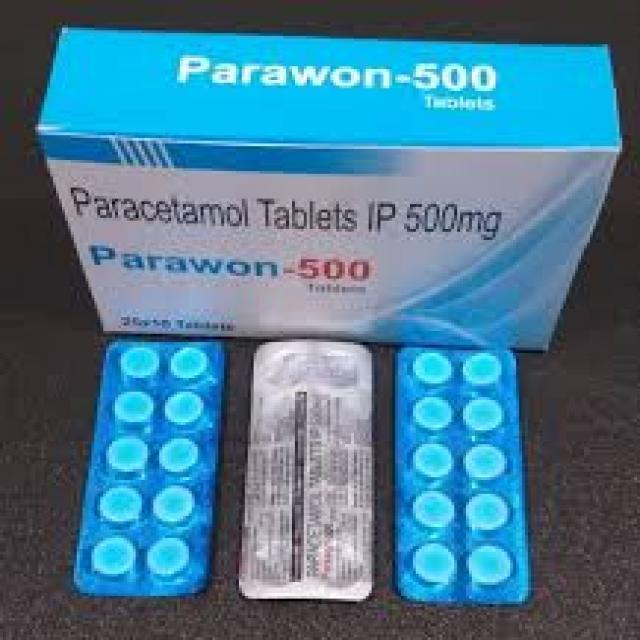authentic: (30, 19, 638, 340), (79, 320, 233, 614), (388, 342, 541, 610), (238, 337, 382, 604)
